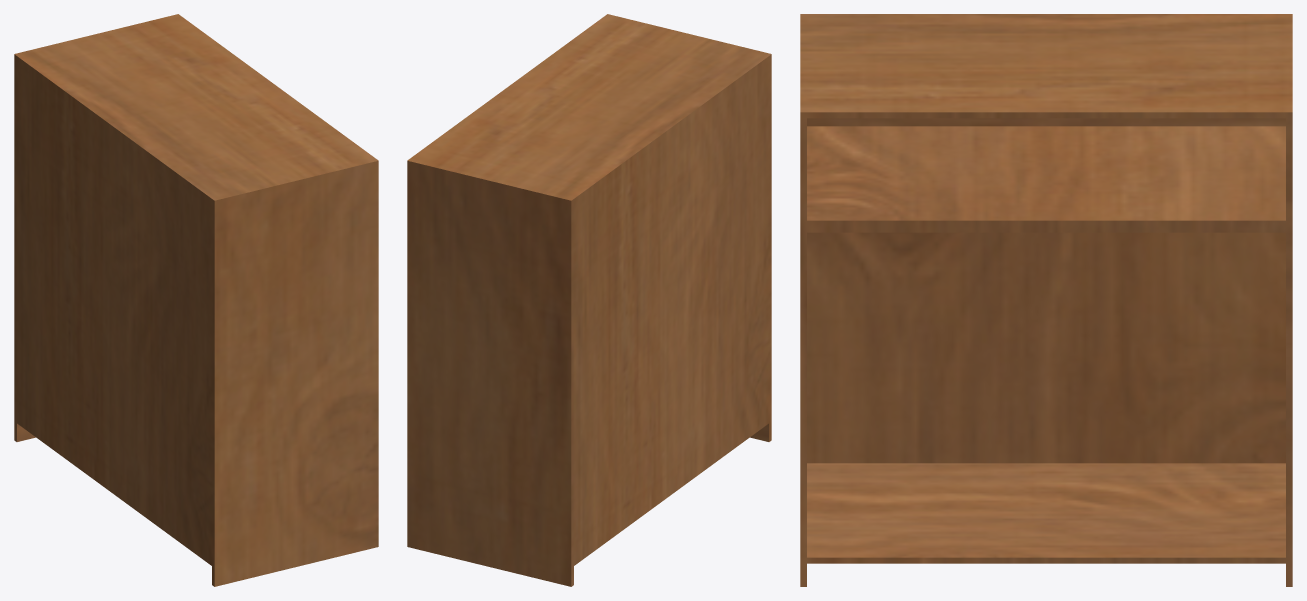
The model's file is nightstand_1.FBX.
The picture shows the model from 3 angles, left to right: view 1: azimuth 30°, elevation 25°; view 2: azimuth 150°, elevation 25°; view 3: azimuth 270°, elevation 25°; orthographic projection. The views are drawn at different scales.
Visible parts, largest first — view 1: nightstand_1; view 2: nightstand_1; view 3: nightstand_1.
Boxes of the visible parts, box(x1,y1,x2,y2) form: nightstand_1: box(14, 14, 378, 586); nightstand_1: box(407, 14, 771, 586); nightstand_1: box(800, 14, 1292, 586).
Size of the model in its own units: 12.74 by 28.63 by 26.93.
